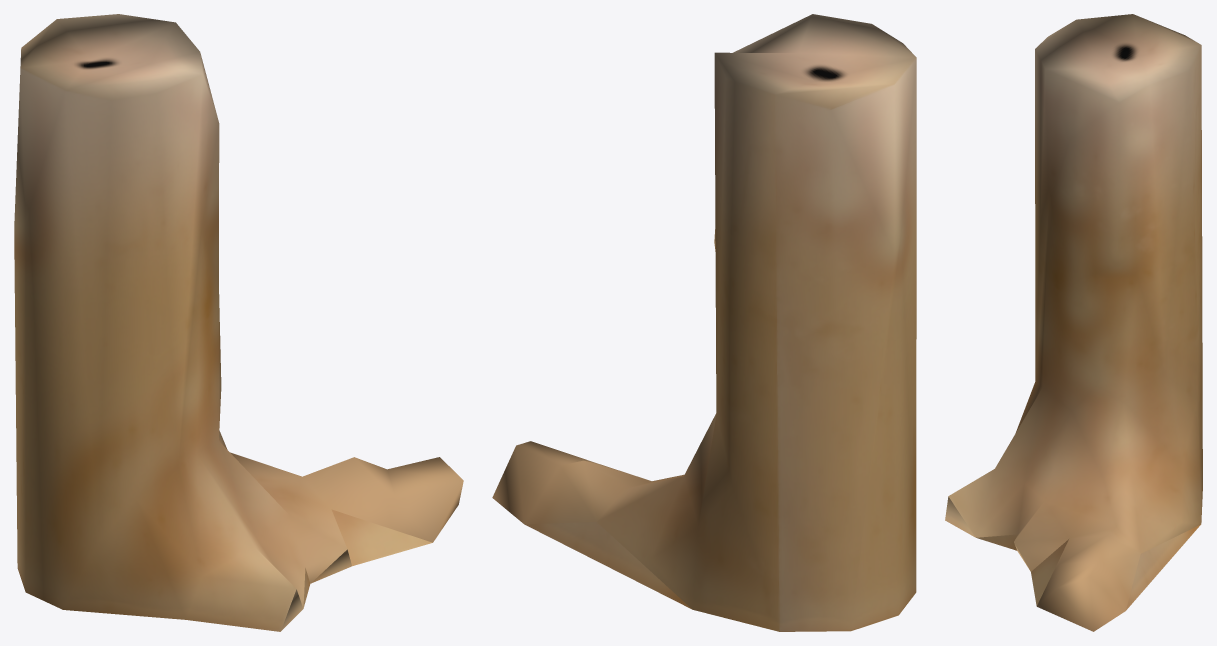
File: SM_Candles.fbx
3 renders of one model, left to right at view 1: azimuth 30°, elevation 25°; view 2: azimuth 150°, elevation 25°; view 3: azimuth 270°, elevation 25°, orthographic. The views are drawn at different scales.
Parts seen in each view (by area): view 1: SM_Candles_LOD0; view 2: SM_Candles_LOD0; view 3: SM_Candles_LOD0.
Part boxes in pixels (bbox=[...]): SM_Candles_LOD0: bbox=[14, 14, 463, 631]; SM_Candles_LOD0: bbox=[492, 14, 916, 631]; SM_Candles_LOD0: bbox=[945, 14, 1202, 631].
Bounding box in the file's own units: 4.97 × 3.11 × 5.93.
1 material, 1 textured.
